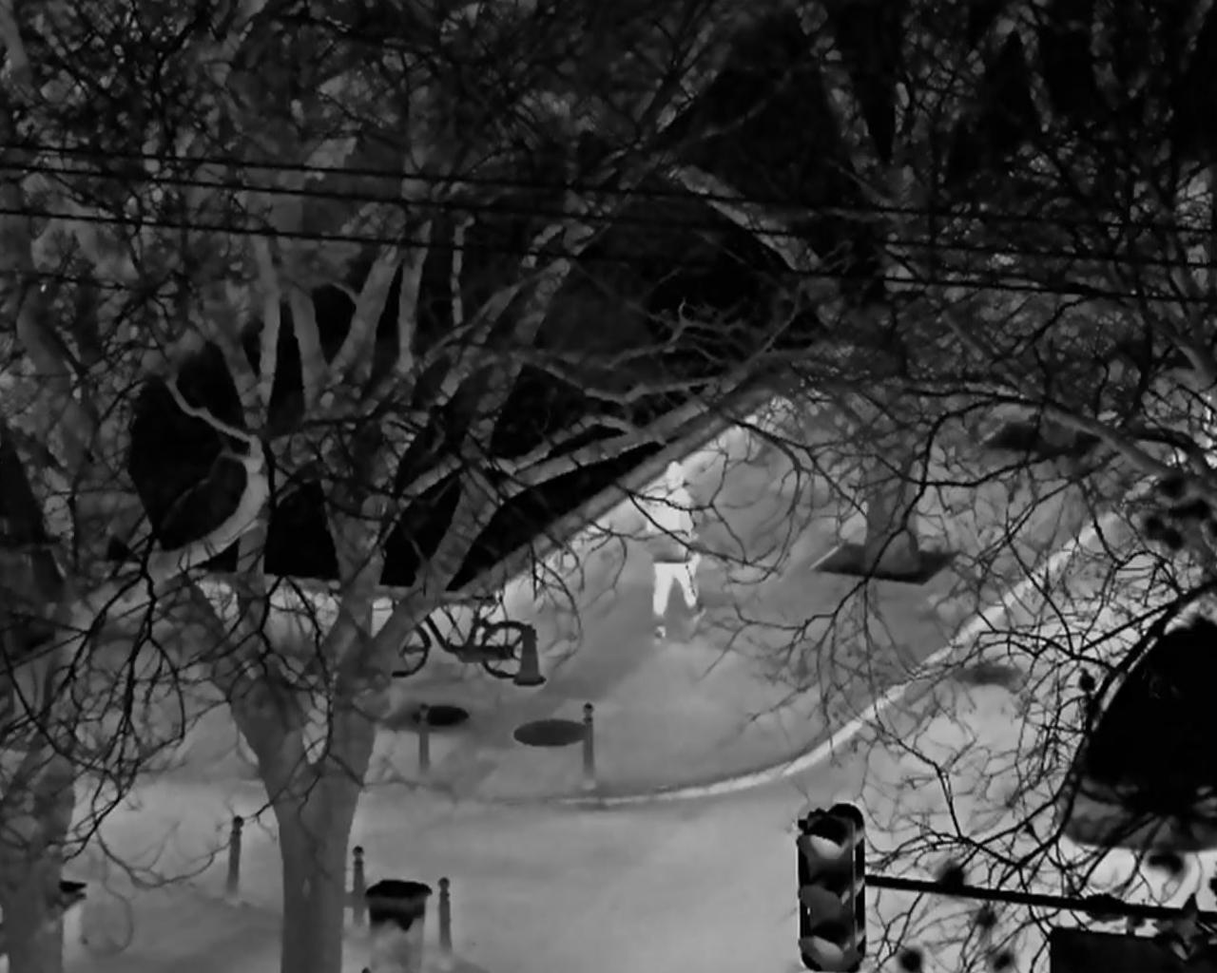person: (642, 460, 706, 644)
